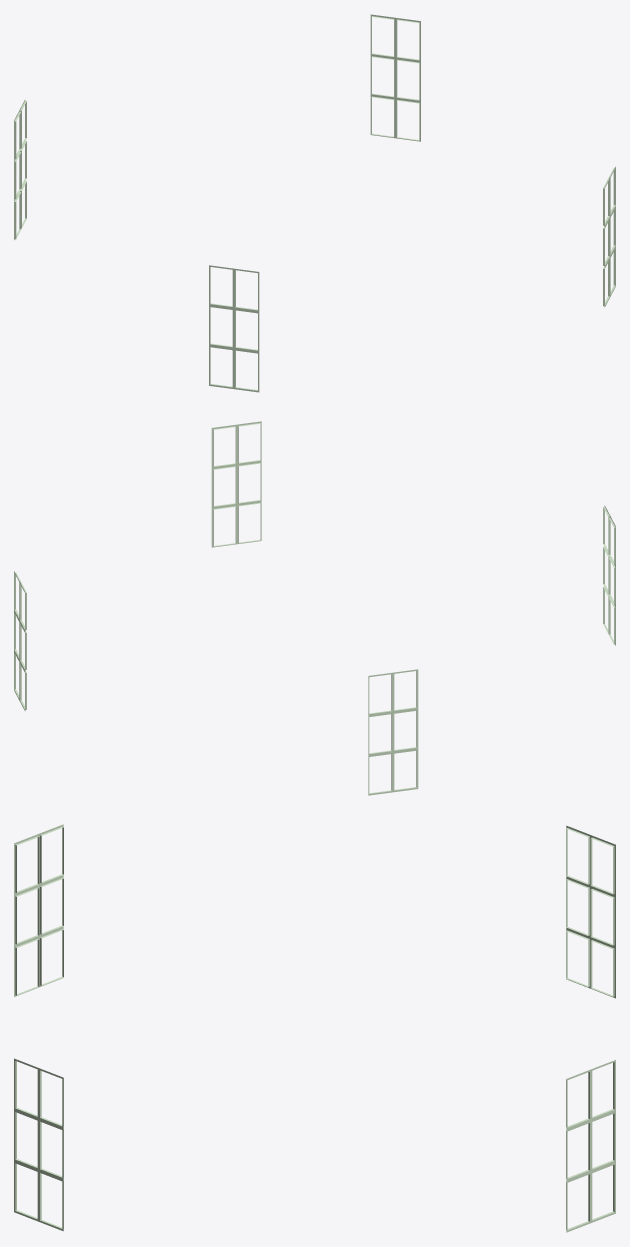
File: FairyTale229.gltf
The picture shows the model from 3 angles, top to bottom: view 1: azimuth 30°, elevation 25°; view 2: azimuth 150°, elevation 25°; view 3: azimuth 270°, elevation 25°; orthographic projection. The views are drawn at different scales.
Parts seen in each view (by area): view 1: Windmill_Mullions_Wood; view 2: Windmill_Mullions_Wood; view 3: Windmill_Mullions_Wood.
Part boxes in pixels (x1,y1,x2,y2): Windmill_Mullions_Wood: (14, 14, 615, 392); Windmill_Mullions_Wood: (14, 421, 615, 795); Windmill_Mullions_Wood: (14, 824, 615, 1232).
Bounding box in the file's own units: 3.04 × 0.8567 × 3.04.
